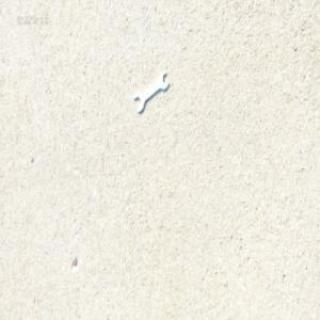Wrenchtrack_idkeyframe: (133, 71, 168, 113)
